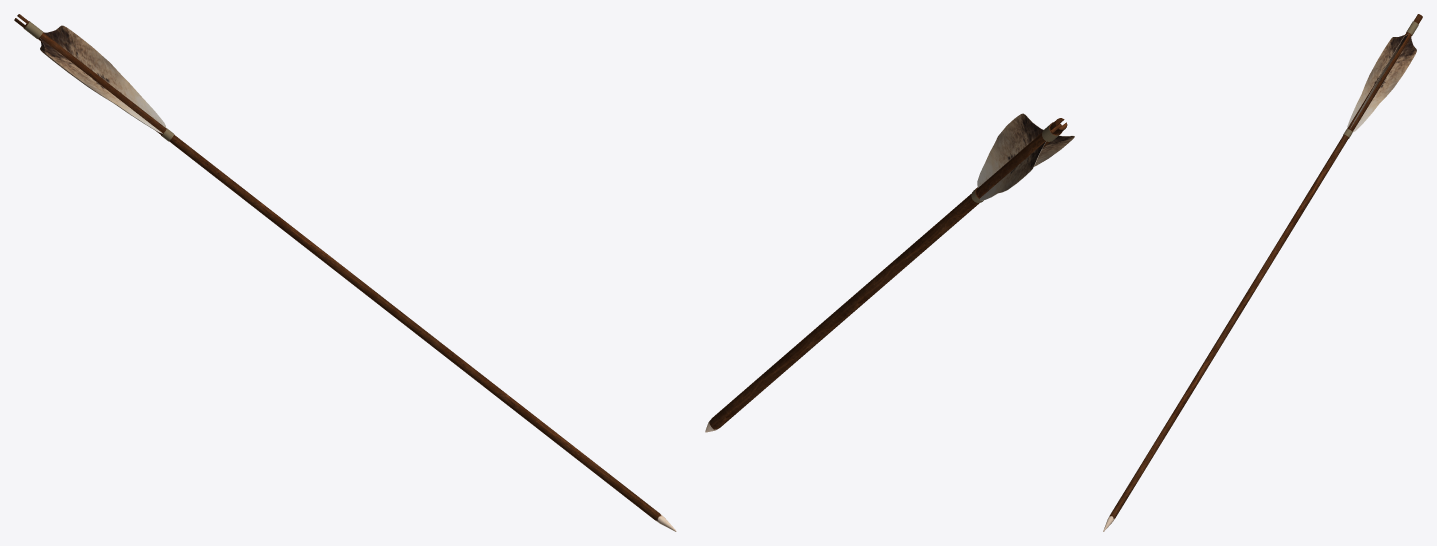
Rendered from cc0_-_wooden_arrow_1k.glb.
3 views of the same model, side by side, from view 1: azimuth 30°, elevation 25°; view 2: azimuth 150°, elevation 25°; view 3: azimuth 270°, elevation 25° (orthographic). The views are drawn at different scales.
Parts seen in each view (by area): view 1: WoodenArrow_WoodenArrow_0; view 2: WoodenArrow_WoodenArrow_0; view 3: WoodenArrow_WoodenArrow_0.
Part boxes in pixels (x1,y1,x2,y2): WoodenArrow_WoodenArrow_0: (14,14,676,531); WoodenArrow_WoodenArrow_0: (705,113,1074,432); WoodenArrow_WoodenArrow_0: (1103,14,1422,531).
Bounding box in the file's own units: 0.4686 × 0.4686 × 0.3834.
1 material, 1 textured.
